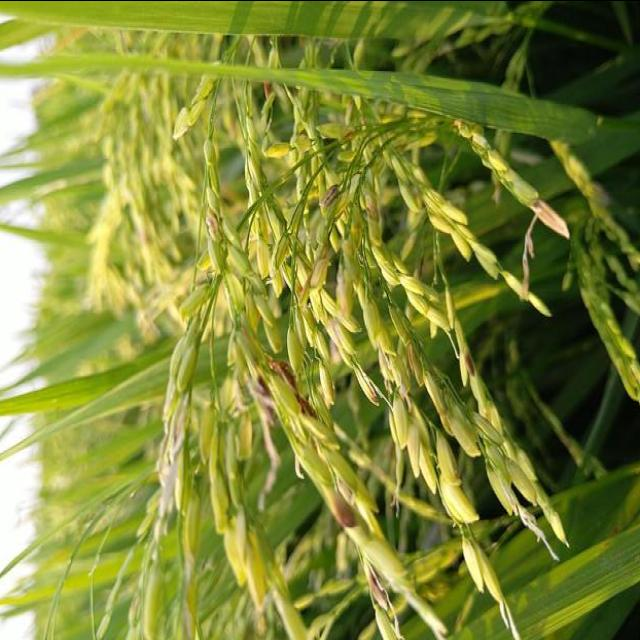Panicle Blight: (407, 338, 455, 428), (271, 360, 320, 419), (244, 371, 281, 427), (363, 555, 395, 618), (332, 467, 358, 529), (533, 201, 571, 236), (306, 253, 326, 291), (321, 183, 344, 209), (464, 339, 477, 374), (207, 209, 219, 238), (262, 80, 275, 100)
